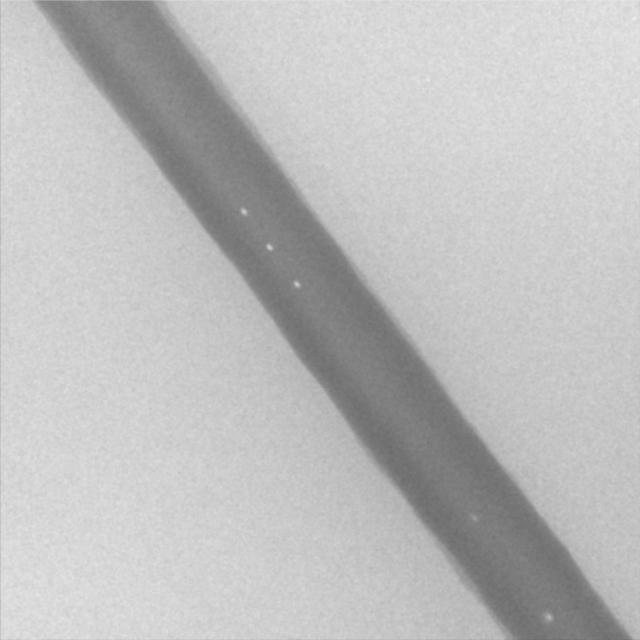air hole: (542, 609, 553, 624), (238, 204, 248, 216), (291, 277, 301, 289), (469, 513, 478, 524), (264, 241, 273, 251)
